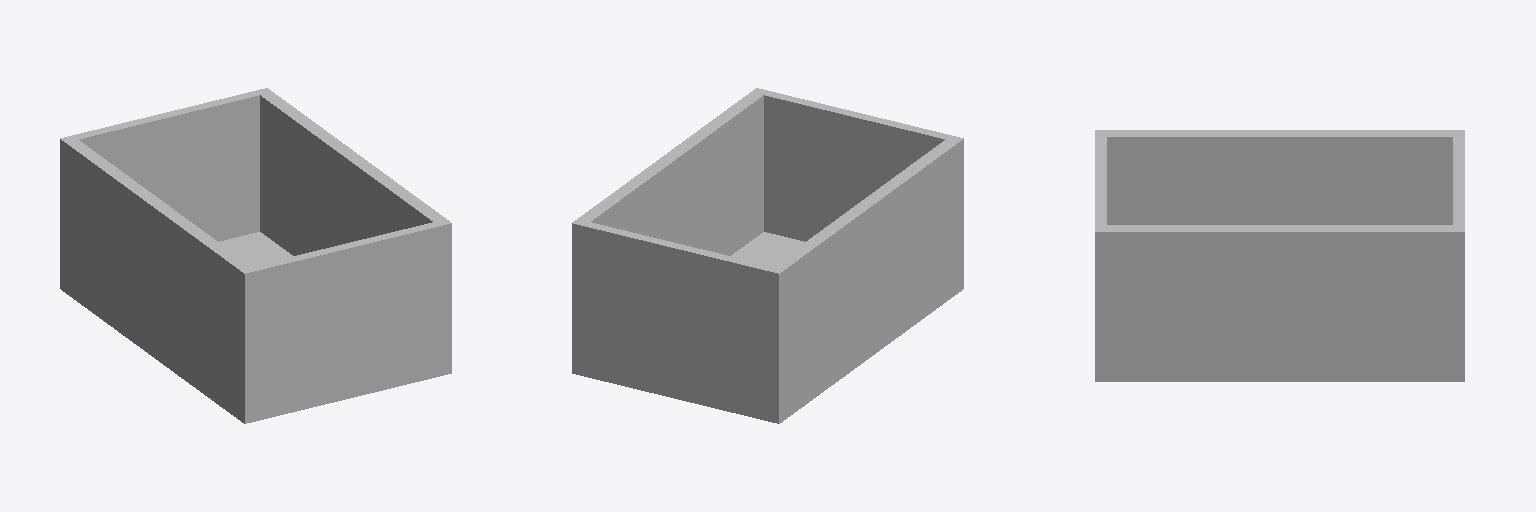
3 views of the same model, side by side, from view 1: azimuth 30°, elevation 25°; view 2: azimuth 150°, elevation 25°; view 3: azimuth 270°, elevation 25° (orthographic).
Visible parts, largest first — view 1: group[number redacted]; view 2: group[number redacted]; view 3: group[number redacted].
Boxes of the visible parts, box(x1,y1,x2,y2) form: group[number redacted]: box(60, 88, 451, 423); group[number redacted]: box(572, 88, 963, 423); group[number redacted]: box(1095, 130, 1464, 381).
Bounding box in the file's own units: 0.94 × 0.65 × 1.45.